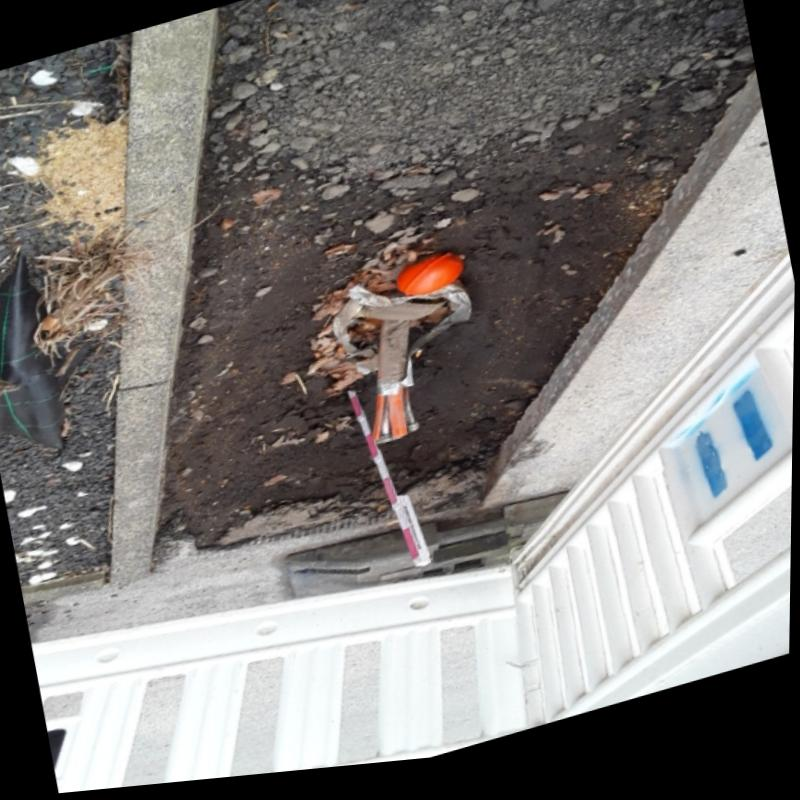Kugelmarker: (397, 261, 461, 302)
